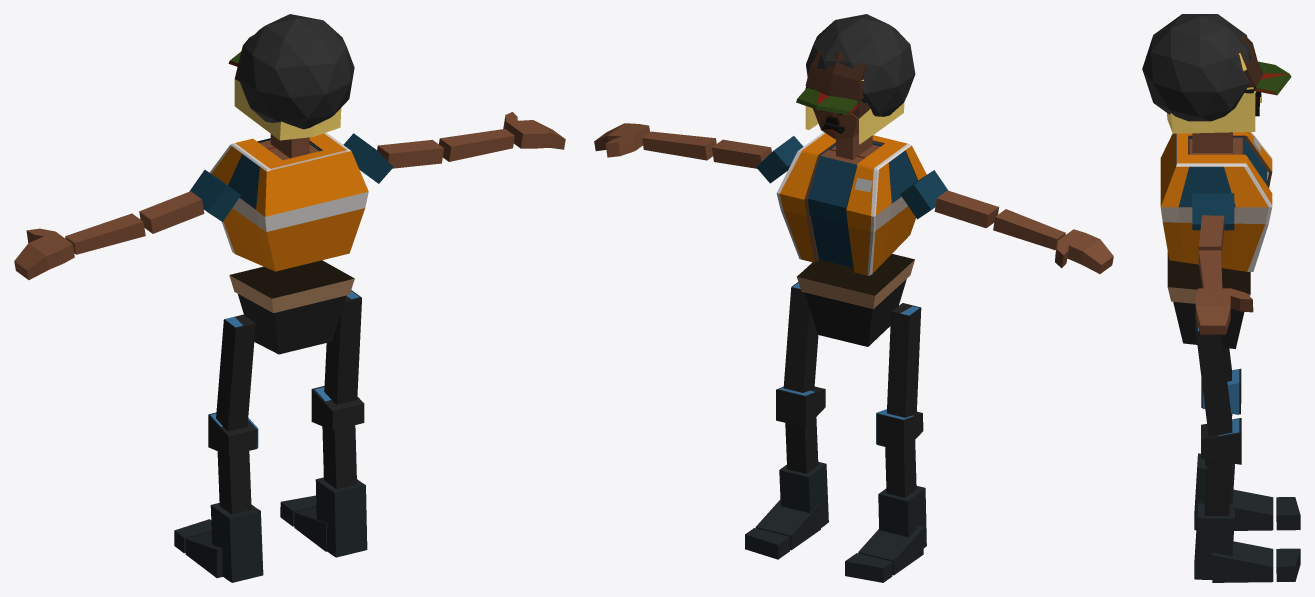
File: Modular_Staff.fbx
3 views of the same model, side by side, from view 1: azimuth 30°, elevation 25°; view 2: azimuth 150°, elevation 25°; view 3: azimuth 270°, elevation 25° (orthographic). The views are drawn at different scales.
Parts seen in each view (by area): view 1: male_legs_JeansBlack, male_vest_OrangeStripes, male_body_Black, male_head_Afro, male_feet_BootsBlack, male_chest_BlueShirt, male_head_Surfer; view 2: male_legs_JeansBlack, male_body_Black, male_vest_OrangeStripes, male_feet_BootsBlack, male_chest_BlueShirt, male_head_Afro, male_head_Hitler, male_head_Surfer, male_head_HatGreen; view 3: male_head_Afro, male_legs_JeansBlack, male_vest_OrangeStripes, male_feet_BootsBlack, male_body_Black, male_chest_BlueShirt, male_head_Surfer, male_head_HatGreen, male_legs_JeansBlue, male_head_Hitler.
Part boxes in pixels (x1,y1,x2,y2): male_legs_JeansBlack: [208, 260, 364, 514]; male_vest_OrangeStripes: [209, 132, 368, 271]; male_body_Black: [14, 112, 565, 279]; male_head_Afro: [238, 14, 354, 129]; male_feet_BootsBlack: [174, 477, 367, 582]; male_chest_BlueShirt: [189, 133, 393, 221]; male_head_Surfer: [234, 46, 341, 140]; male_legs_JeansBlack: [776, 254, 923, 497]; male_body_Black: [594, 108, 1113, 273]; male_vest_OrangeStripes: [776, 132, 926, 275]; male_feet_BootsBlack: [745, 462, 926, 582]; male_chest_BlueShirt: [756, 136, 948, 267]; male_head_Afro: [806, 14, 915, 116]; male_head_Hitler: [805, 51, 870, 118]; male_head_Surfer: [805, 79, 904, 144]; male_head_HatGreen: [796, 87, 858, 115]; male_head_Afro: [1142, 14, 1251, 121]; male_legs_JeansBlack: [1167, 252, 1250, 515]; male_vest_OrangeStripes: [1160, 132, 1272, 271]; male_feet_BootsBlack: [1194, 453, 1300, 582]; male_body_Black: [1189, 92, 1256, 334]; male_chest_BlueShirt: [1178, 137, 1267, 230]; male_head_Surfer: [1167, 53, 1261, 133]; male_head_HatGreen: [1255, 61, 1291, 95]; male_legs_JeansBlue: [1198, 327, 1239, 435]; male_head_Hitler: [1238, 36, 1263, 87].
Size of the model in its own units: 1.96 by 0.5148 by 1.9.
